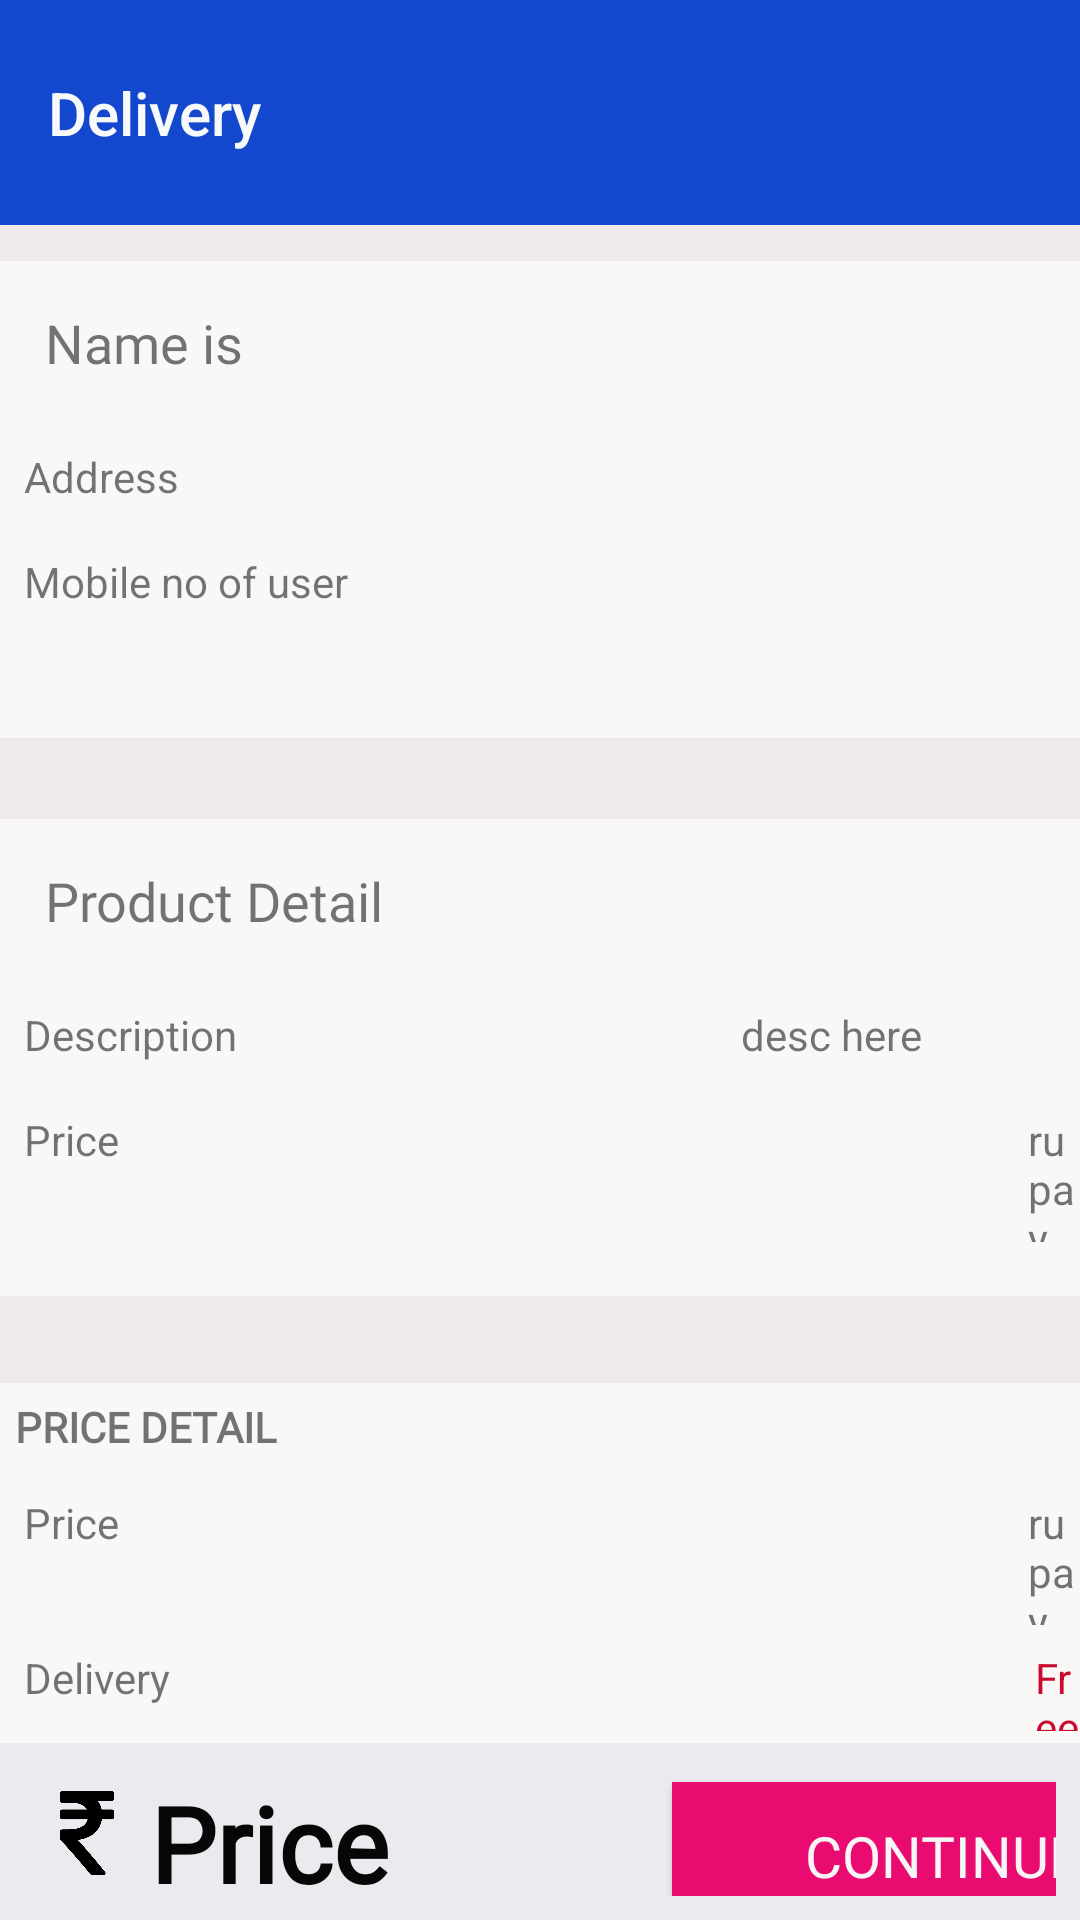

Screen size 1080 x 1920. Icon name, then its center in pixels as point (x, y):
rupay: point (87, 1833)
